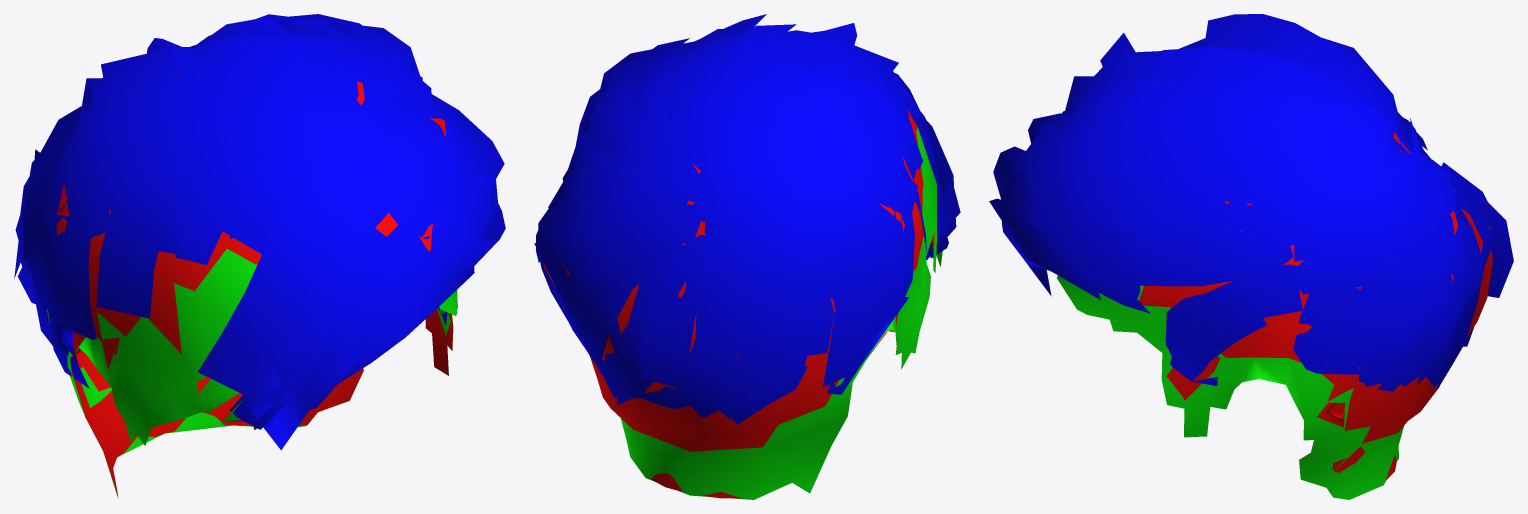
The model's file is hair_004.obj.
The picture shows the model from 3 angles, left to right: view 1: azimuth 30°, elevation 25°; view 2: azimuth 150°, elevation 25°; view 3: azimuth 270°, elevation 25°; orthographic projection. The views are drawn at different scales.
Visible parts, largest first — view 1: hair_004; view 2: hair_004; view 3: hair_004.
Boxes of the visible parts, box(x1,y1,x2,y2) form: hair_004: box(14, 14, 505, 498); hair_004: box(534, 14, 960, 499); hair_004: box(989, 14, 1513, 499).
Bounding box in the file's own units: 18.67 × 21.57 × 23.78.
